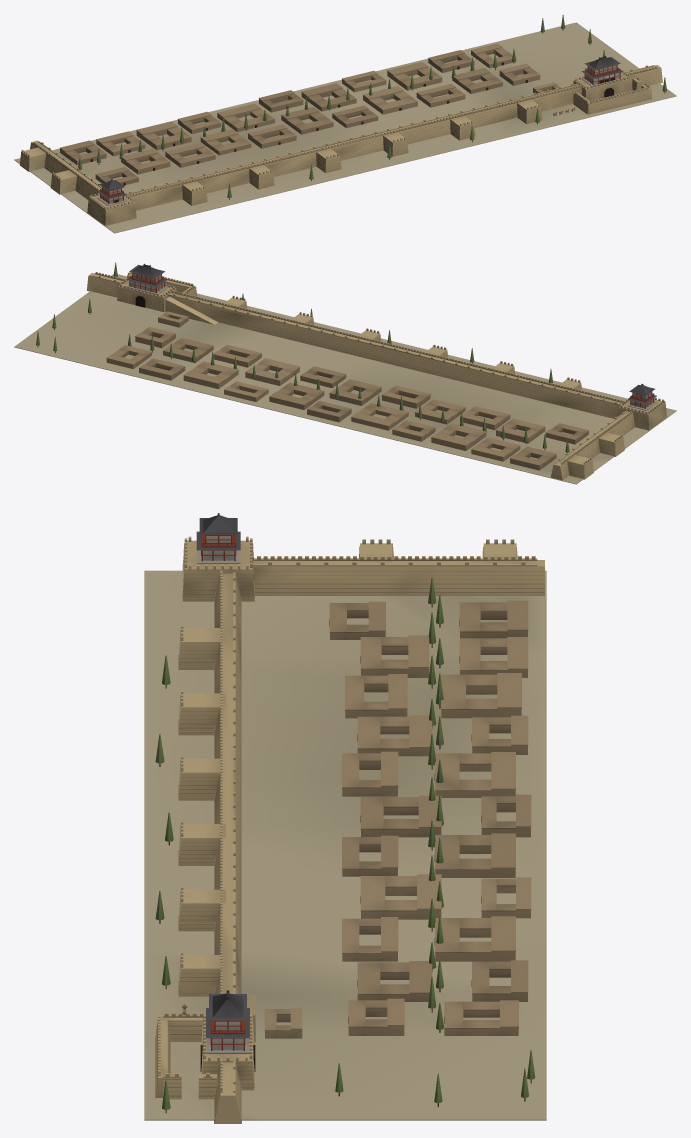
File: shazhou-gate.glb
3 renders of one model, top to bottom at view 1: azimuth 30°, elevation 25°; view 2: azimuth 150°, elevation 25°; view 3: azimuth 270°, elevation 25°, orthographic. The views are drawn at different scales.
Parts seen in each view (by area): view 1: p0_gates, p1_houses, p2_trees; view 2: p0_gates, p1_houses, p2_trees; view 3: p0_gates, p1_houses, p2_trees.
Boxes of the visible parts, <box> form: p0_gates: <box>14,22,676,233</box>; p1_houses: <box>60,43,651,205</box>; p2_trees: <box>78,14,666,199</box>; p0_gates: <box>14,272,676,484</box>; p1_houses: <box>106,272,657,470</box>; p2_trees: <box>36,262,656,453</box>; p0_gates: <box>144,536,546,1123</box>; p1_houses: <box>155,534,531,1099</box>; p2_trees: <box>155,513,535,1113</box>.
Size of the model in its own units: 423 by 26.66 by 130.
